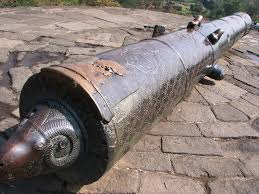Mendha Tope: (1, 20, 233, 192)
